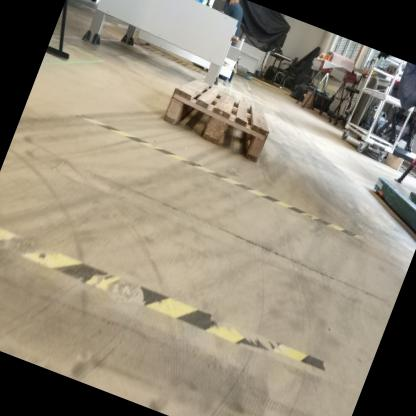BoxFace: (157, 73, 272, 169)
